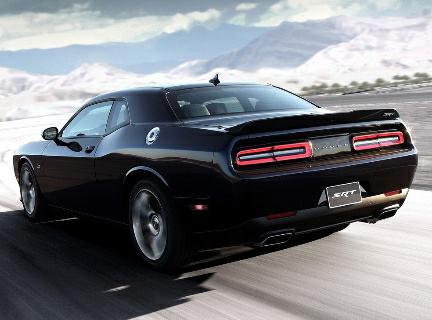东风风神-AX4: (6, 71, 425, 280)
